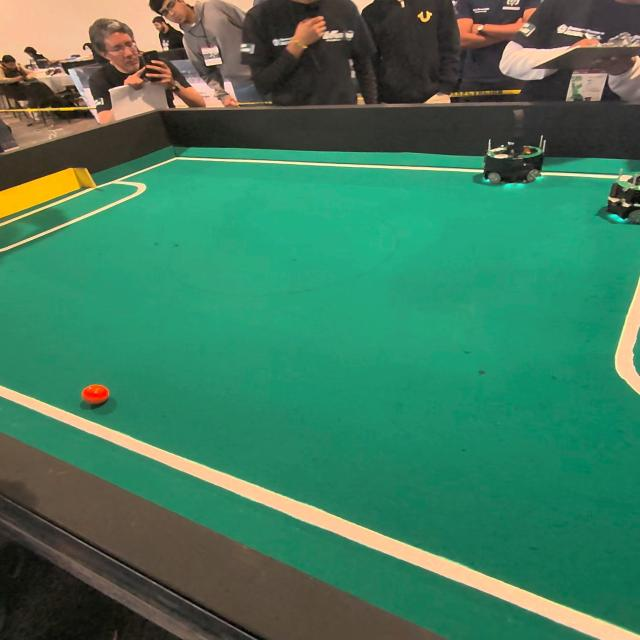Robot: (470, 104, 550, 198), (598, 167, 640, 232)
pelota: (82, 384, 112, 408)
